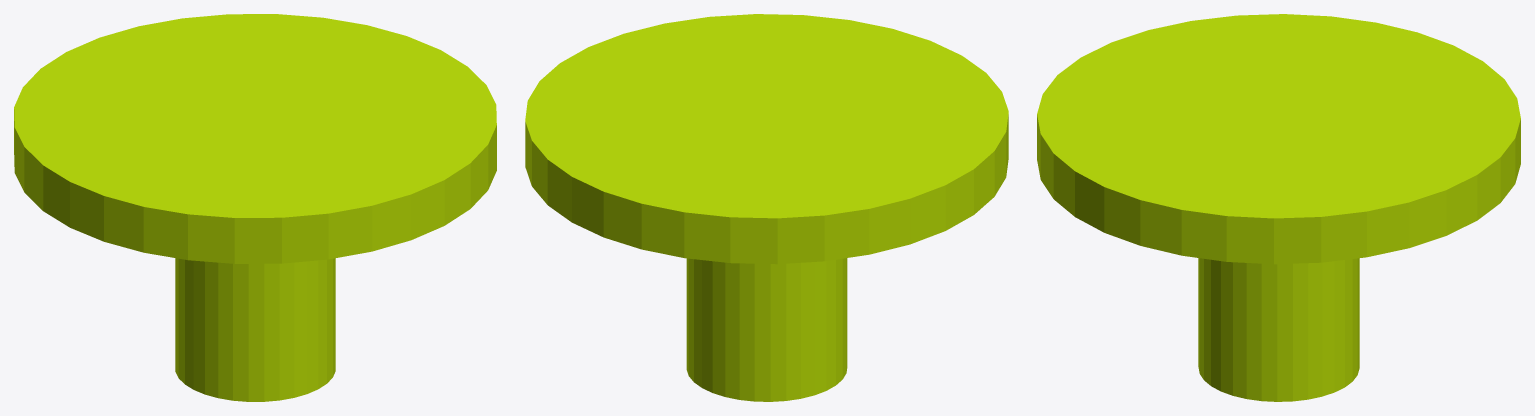
File: round table.fbx
3 renders of one model, left to right at view 1: azimuth 30°, elevation 25°; view 2: azimuth 150°, elevation 25°; view 3: azimuth 270°, elevation 25°, orthographic.
Parts seen in each view (by area): view 1: Cylinder.005; view 2: Cylinder.005; view 3: Cylinder.005.
Part boxes in pixels (bbox=[...]): Cylinder.005: bbox=[14, 14, 496, 401]; Cylinder.005: bbox=[525, 14, 1008, 401]; Cylinder.005: bbox=[1037, 14, 1520, 401].
Bounding box in the file's own units: 252 × 145 × 252.
